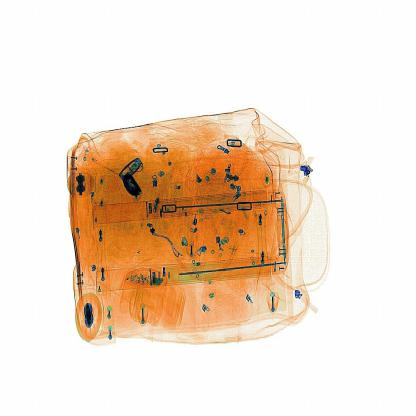scissors: (116, 166, 150, 207)
